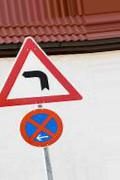left: (1, 37, 84, 106)
